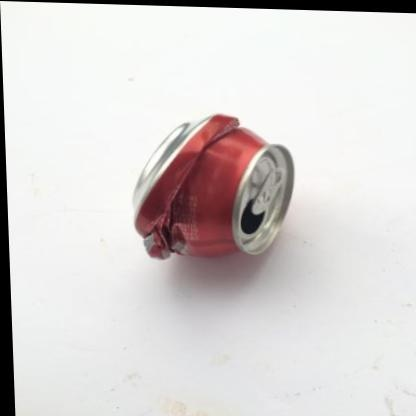trash: (133, 114, 293, 257)
